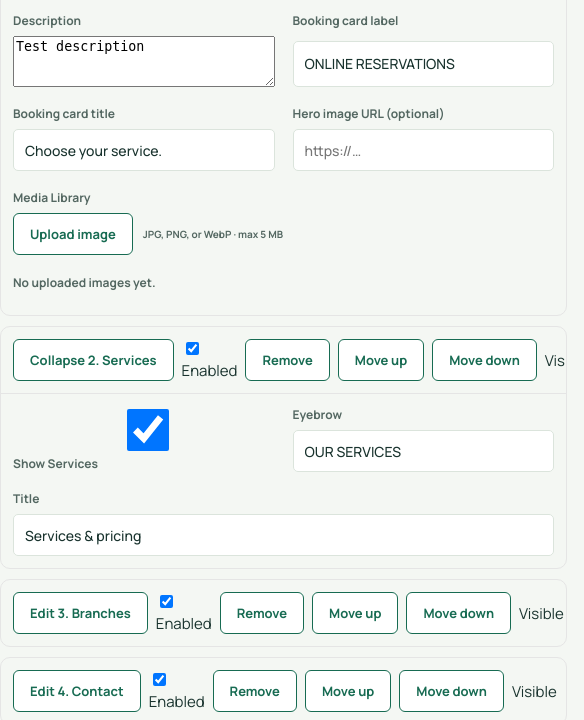
Test: WebsiteManagementPage › shows a clear Add Section area only after a section is removed
The image size is (584, 720).
(page scrolled)
Expected: the text "No uploaded images yet." is shown, [13,274,156,291]
Expected: the heading "Add Section" is not shown
Click the 1st button "Remove": (288, 360) [246,339,330,381]
(page scrolled)
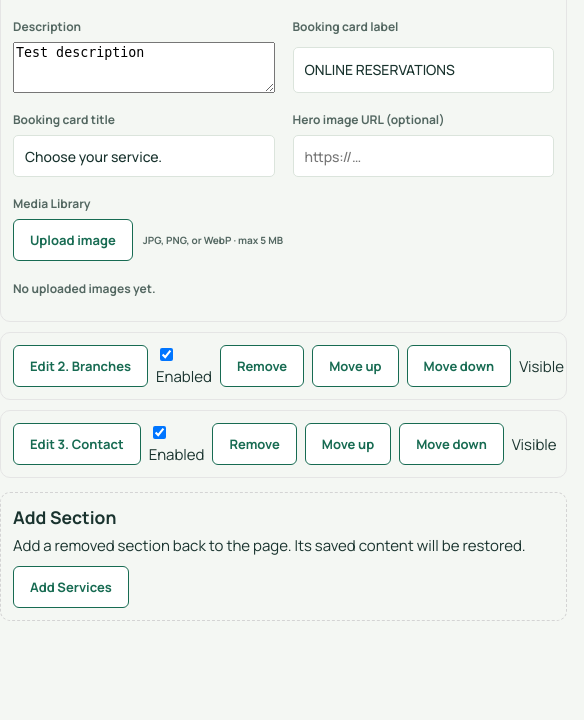
Expected: the heading "Add Section" is shown, [13,505,116,529]
Expected: the text "Add a removed section back to the page. Its saved content will be restored." is shown, [13,535,554,556]
Expected: the button "Add Services" is shown, [13,566,129,608]
